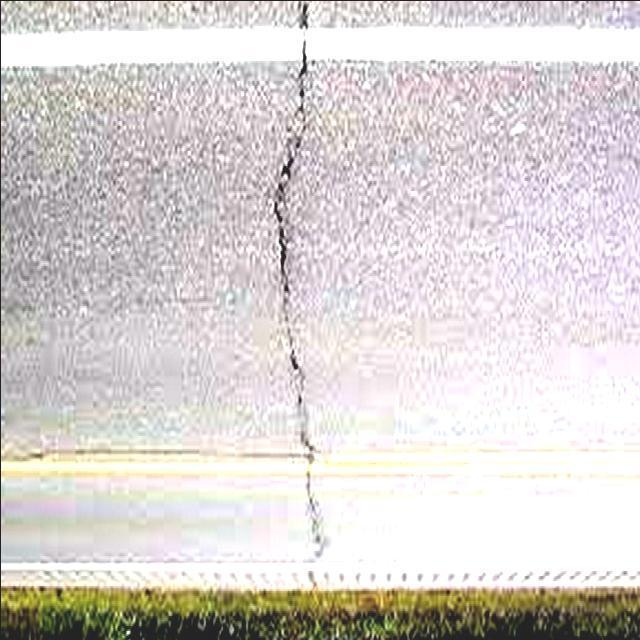severe crack: (267, 8, 324, 552)
